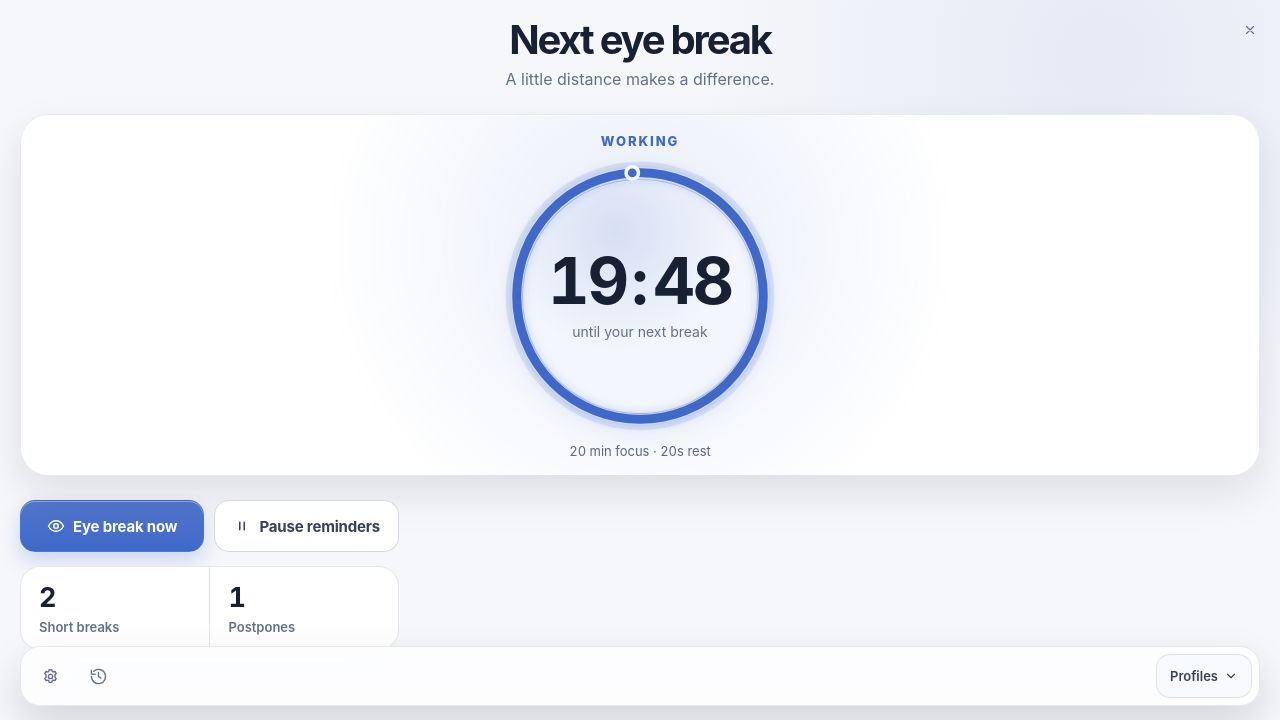
Test: PausIO app experience › runs standalone on a phone and never contacts a watch nobody connected
Check: the heading "Next eye break" is shown, box [506,20,774,61]
Step 1. Click the button named "Settings" → (50, 676), box [28,654,72,698]
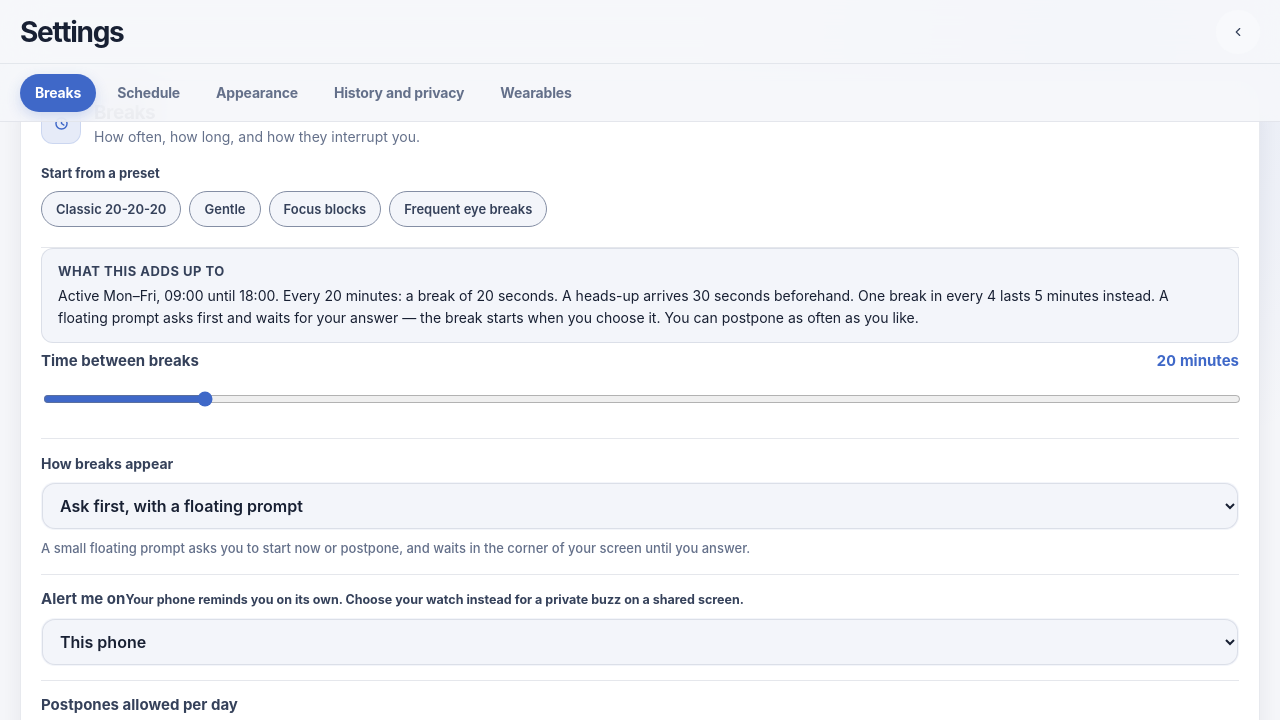
Step 2. Click the button "Wearables" → (536, 92), box [485,74,587,112]
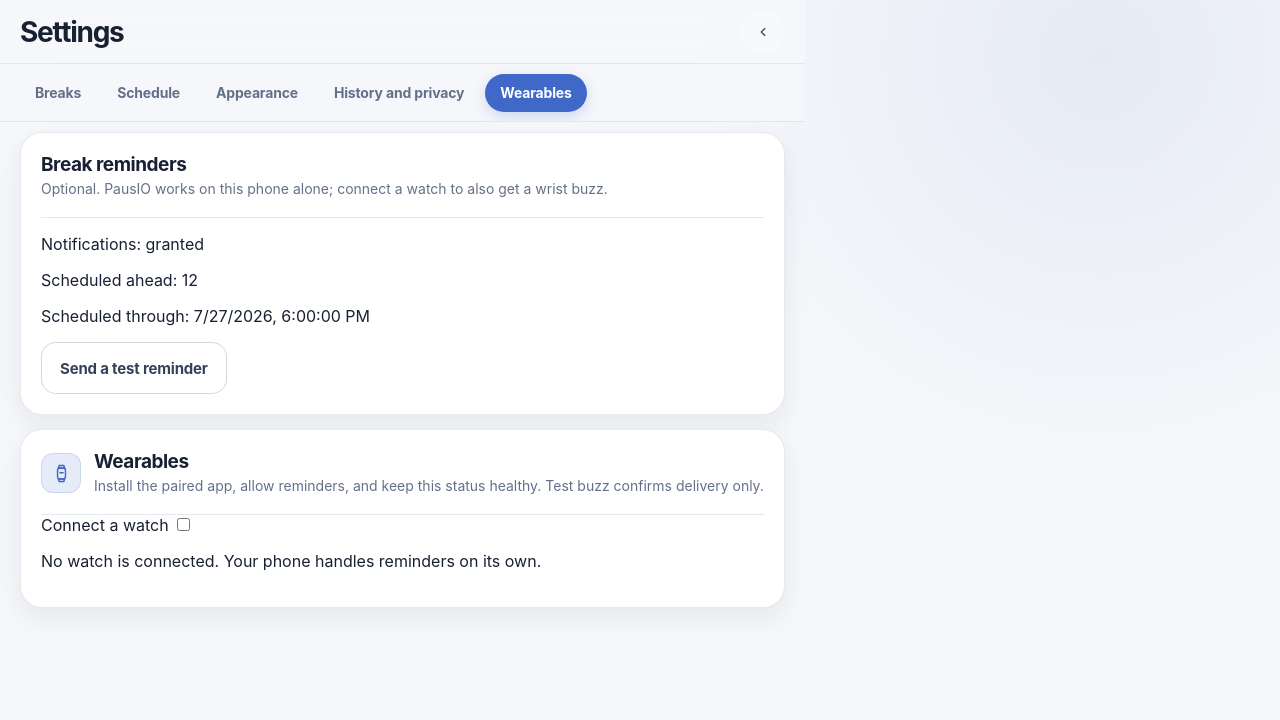
Check: the text "Scheduled ahead: 12" is shown, box [41,270,198,290]
Check: the text "No watch is connected" is shown, box [41,551,541,571]
